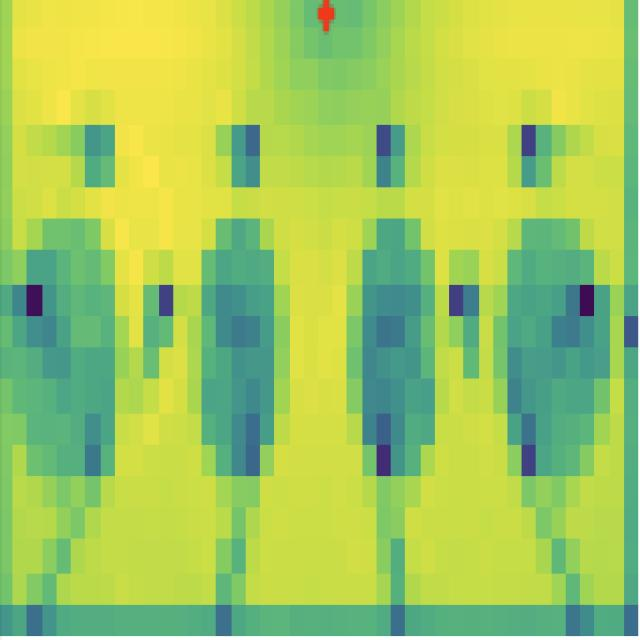Concrete: (343, 213, 442, 486)
Glass: (195, 214, 289, 490)
Metal: (502, 210, 613, 503)
Wood: (26, 215, 120, 482)
